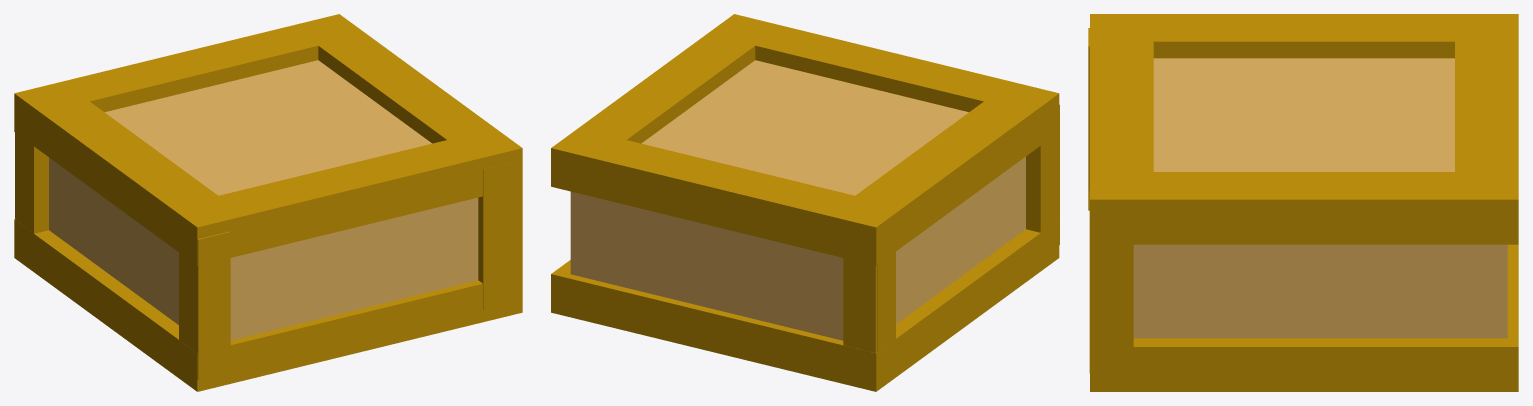
File: VeggieCrate.fbx
3 renders of one model, left to right at view 1: azimuth 30°, elevation 25°; view 2: azimuth 150°, elevation 25°; view 3: azimuth 270°, elevation 25°, orthographic. The views are drawn at different scales.
Visible parts, largest first — view 1: pCube12; view 2: pCube12; view 3: pCube12.
Part boxes in pixels (x1,y1,x2,y2): pCube12: (14,14,522,391); pCube12: (551,14,1059,391); pCube12: (1088,14,1518,391).
Bounding box in the file's own units: 1.09 × 0.5258 × 1.07.
